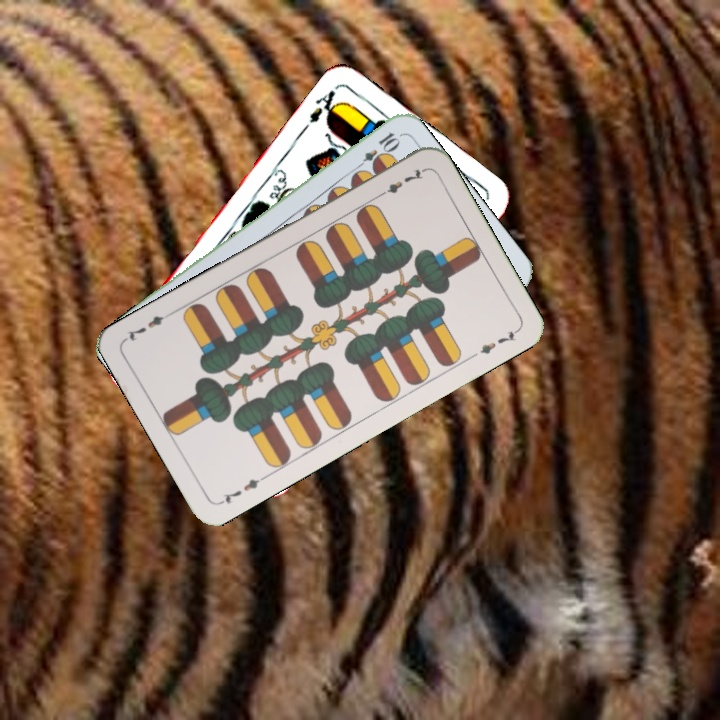E10: (350, 128, 402, 175)
E7: (215, 471, 269, 507), (373, 165, 427, 200)
EA: (305, 85, 344, 126)
